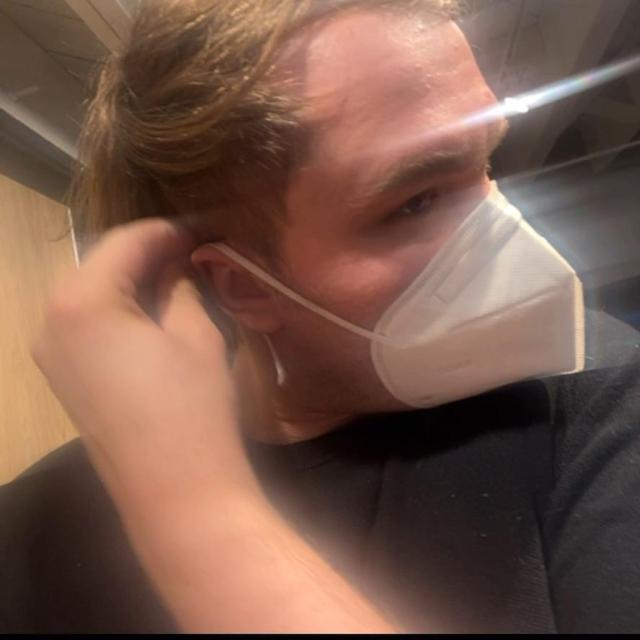no-helmet: (120, 0, 636, 396)
